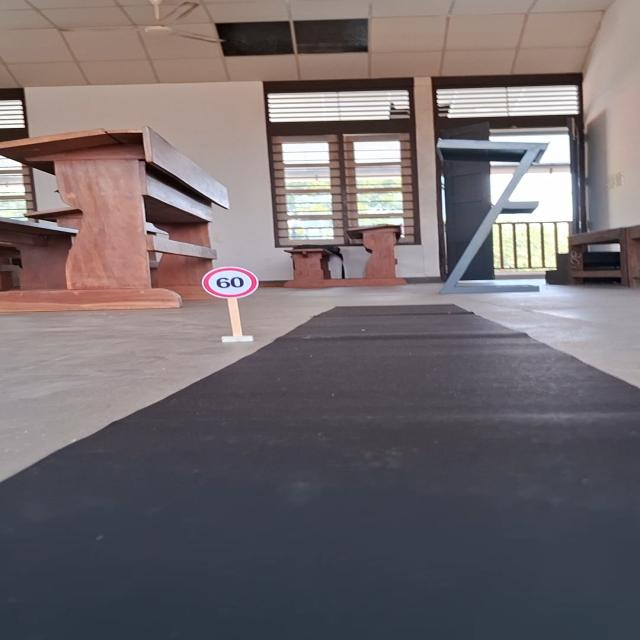Speed60: (199, 265, 262, 300)
